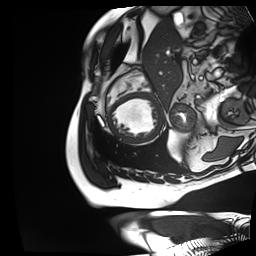ventricle: (114, 99, 156, 133)
